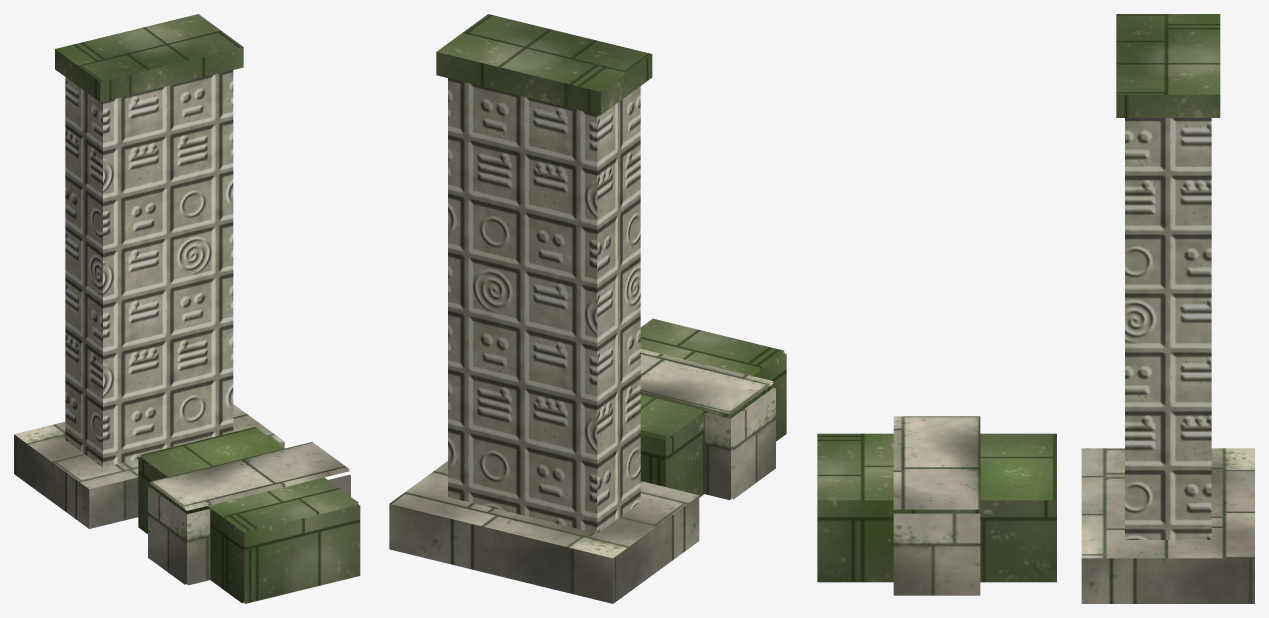
Rendered from ruin-stela.zfix-v10.lod0.glb.
The picture shows the model from 3 angles, left to right: view 1: azimuth 30°, elevation 25°; view 2: azimuth 150°, elevation 25°; view 3: azimuth 270°, elevation 25°; orthographic projection. The views are drawn at different scales.
Parts seen in each view (by area): view 1: ruin-stela; view 2: ruin-stela; view 3: ruin-stela.
Part boxes in pixels (<box>): ruin-stela: <box>14,14,360,603</box>; ruin-stela: <box>389,14,786,603</box>; ruin-stela: <box>817,14,1254,603</box>.
Bounding box in the file's own units: 1.8 × 3.78 × 3.05.
Materials: 3 (3 with a texture image).
